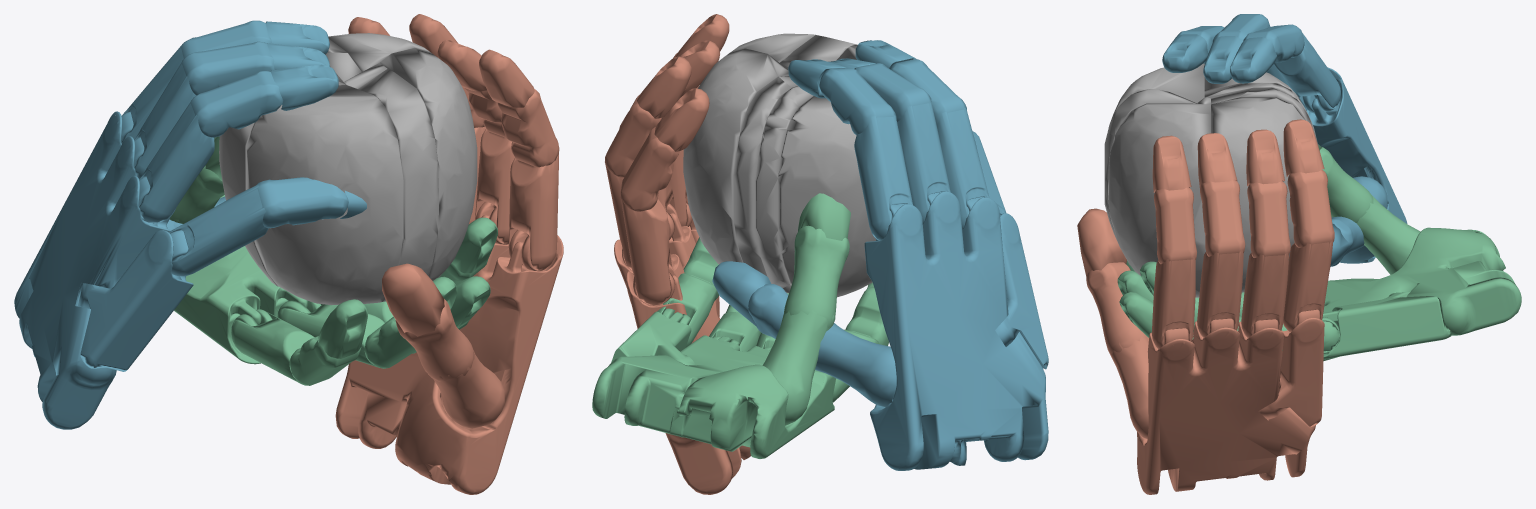
File: novel_ddg-ycb_013_apple_grasp.glb
3 renders of one model, left to right at view 1: azimuth 30°, elevation 25°; view 2: azimuth 150°, elevation 25°; view 3: azimuth 270°, elevation 25°, orthographic. The views are drawn at different scales.
Bounding box in the file's own units: 0.2213 × 0.2092 × 0.2127.
